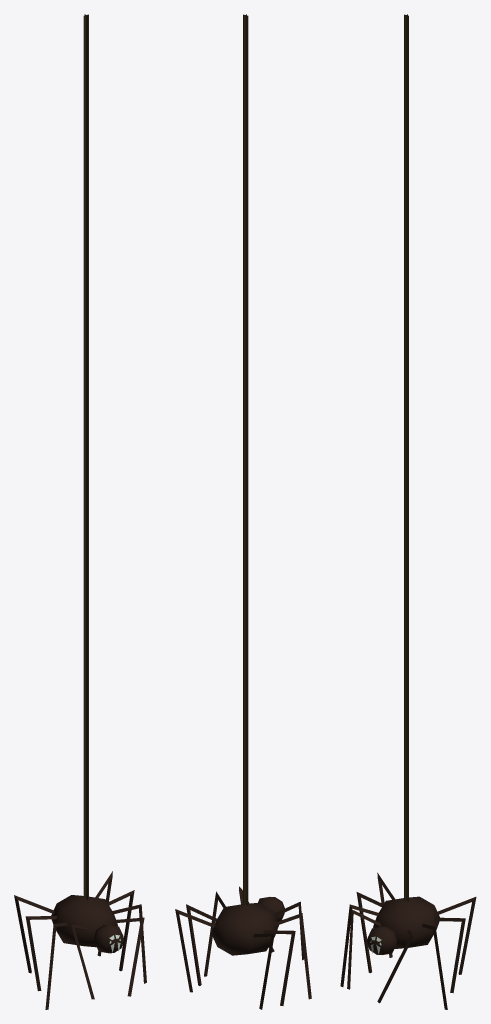
The picture shows the model from 3 angles, left to right: view 1: azimuth 30°, elevation 25°; view 2: azimuth 150°, elevation 25°; view 3: azimuth 330°, elevation 25°; orthographic projection.
Parts seen in each view (by area): view 1: Sphere002; view 2: Sphere002; view 3: Sphere002.
Boxes of the visible parts, bbox=[...] form: Sphere002: bbox=[14, 14, 146, 1009]; Sphere002: bbox=[175, 14, 311, 1009]; Sphere002: bbox=[340, 14, 476, 1009].
Size of the model in its own units: 0.1556 by 1.33 by 0.1423.
